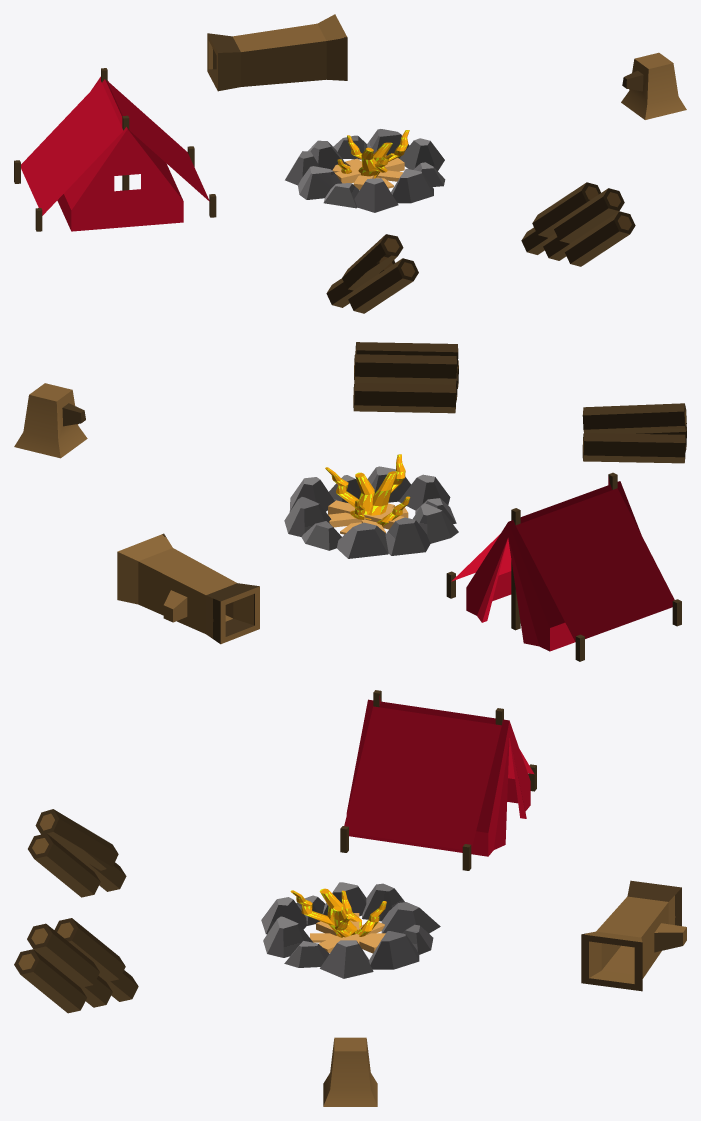
3 views of the same model, one above another, from view 1: azimuth 30°, elevation 25°; view 2: azimuth 150°, elevation 25°; view 3: azimuth 270°, elevation 25° (orthographic). The views are drawn at different scales.
Parts seen in each view (by area): view 1: tent_detailedOpen, Fallen_Trunk_01, campfireStones_rocks, logs_stackLarge, logs_stack, Trunk_Alt_02, Cylinder.001, campfire_large; view 2: tent_detailedOpen, Fallen_Trunk_01, campfireStones_rocks, logs_stackLarge, logs_stack, Trunk_Alt_02, Cylinder.001, campfire_large; view 3: tent_detailedOpen, campfireStones_rocks, Fallen_Trunk_01, logs_stackLarge, logs_stack, Trunk_Alt_02, Cylinder.001, campfire_large.
Part boxes in pixels (x1=…): tent_detailedOpen: x1=14, y1=68, x2=216, y2=231; Fallen_Trunk_01: x1=207, y1=14, x2=347, y2=91; campfireStones_rocks: x1=285, y1=129, x2=445, y2=212; logs_stackLarge: x1=521, y1=182, x2=635, y2=266; logs_stack: x1=326, y1=234, x2=418, y2=313; Trunk_Alt_02: x1=621, y1=52, x2=686, y2=119; Cylinder.001: x1=337, y1=130, x2=409, y2=178; campfire_large: x1=332, y1=155, x2=404, y2=189; tent_detailedOpen: x1=446, y1=472, x2=681, y2=661; Fallen_Trunk_01: x1=117, y1=533, x2=259, y2=644; campfireStones_rocks: x1=284, y1=466, x2=458, y2=558; logs_stackLarge: x1=353, y1=342, x2=458, y2=413; logs_stack: x1=582, y1=403, x2=686, y2=463; Trunk_Alt_02: x1=14, y1=383, x2=87, y2=458; Cylinder.001: x1=325, y1=454, x2=410, y2=526; campfire_large: x1=328, y1=500, x2=408, y2=534; tent_detailedOpen: x1=340, y1=690, x2=536, y2=870; campfireStones_rocks: x1=261, y1=882, x2=440, y2=978; Fallen_Trunk_01: x1=581, y1=880, x2=686, y2=991; logs_stackLarge: x1=14, y1=918, x2=138, y2=1013; logs_stack: x1=28, y1=809, x2=126, y2=897; Trunk_Alt_02: x1=323, y1=1037, x2=377, y2=1106; Cylinder.001: x1=290, y1=888, x2=386, y2=937; campfire_large: x1=310, y1=913, x2=385, y2=953.
Size of the model in its own units: 250 by 43.5 by 211.
